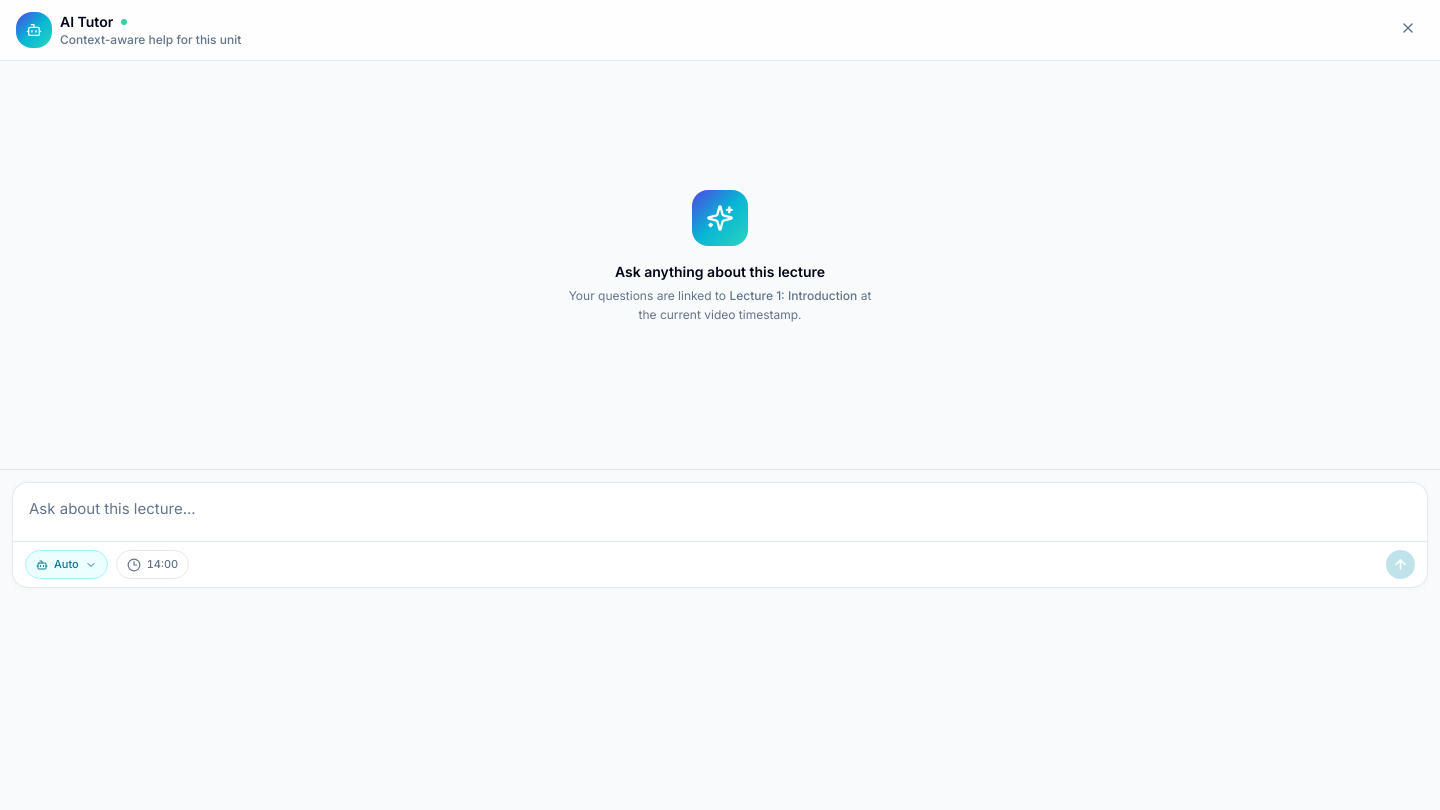
InContextTutor › shows backend error details instead of leaving the AI placeholder hanging
This screenshot has width=1440, height=810.
In the text box with placeholder "Ask about this lecture...": (720, 509) [13,483,1427,535], type "What does the basketball mean?"
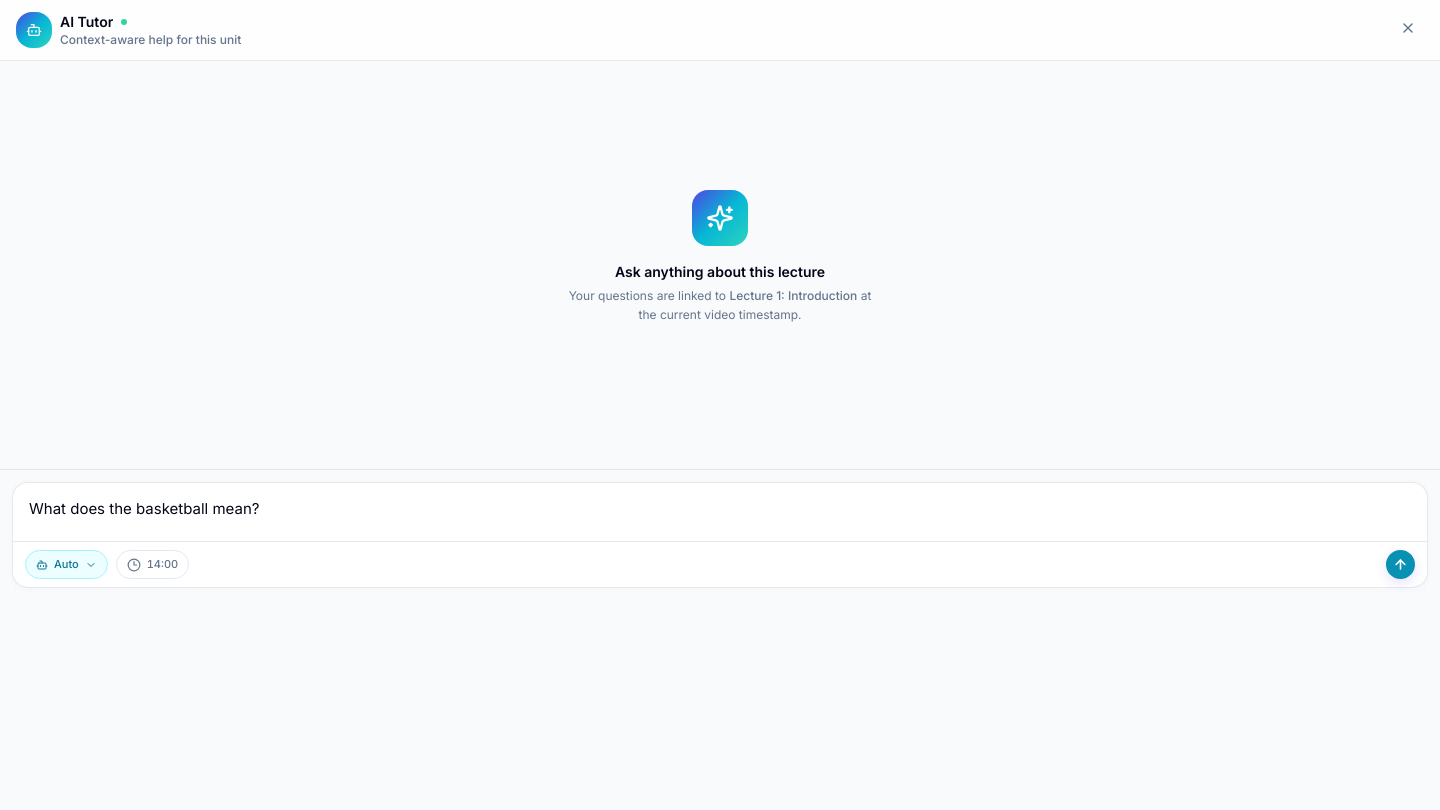
Click the button named "Send question": click(1400, 564) [1386,550,1415,579]
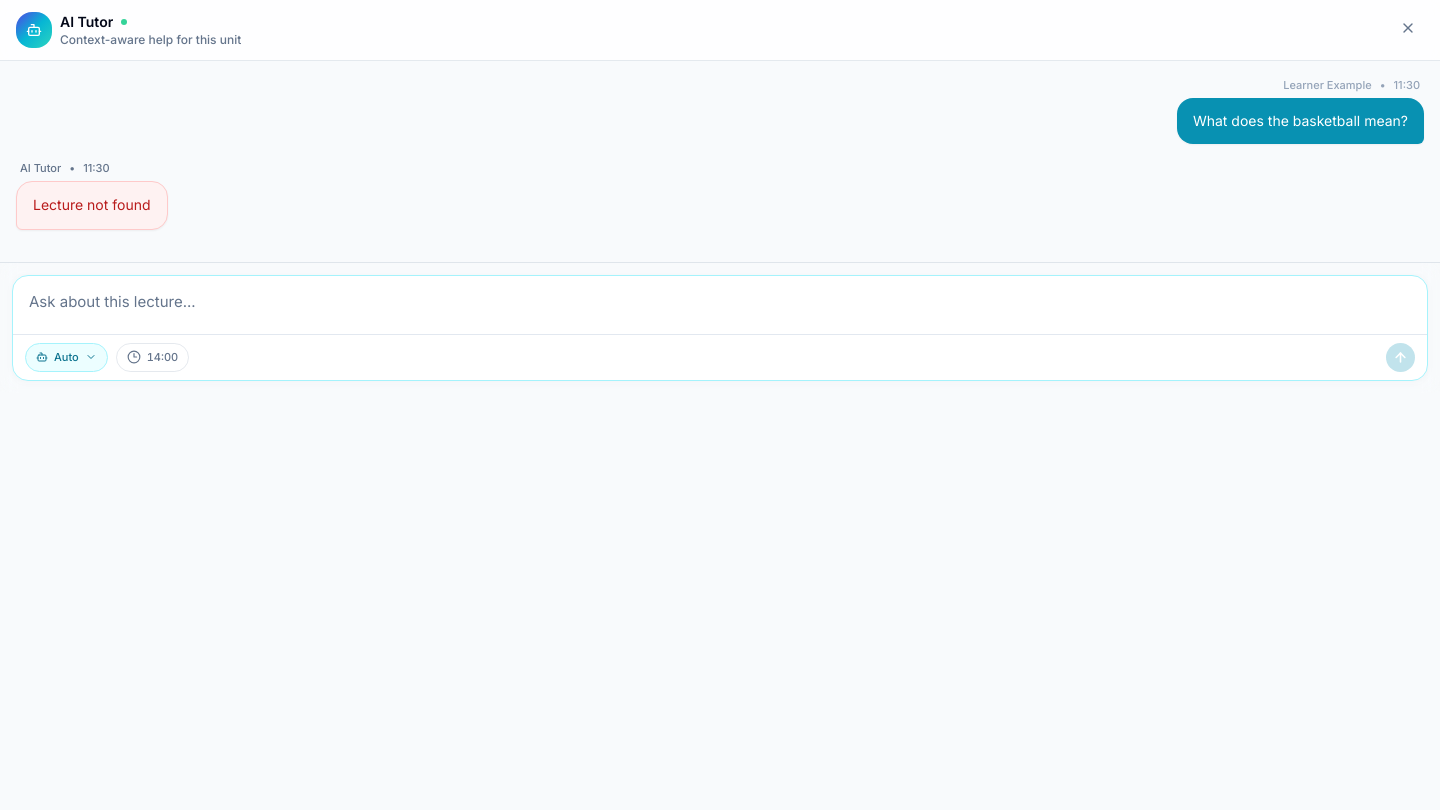
Expected: the text "Lecture not found" is shown, [16,181,168,230]
